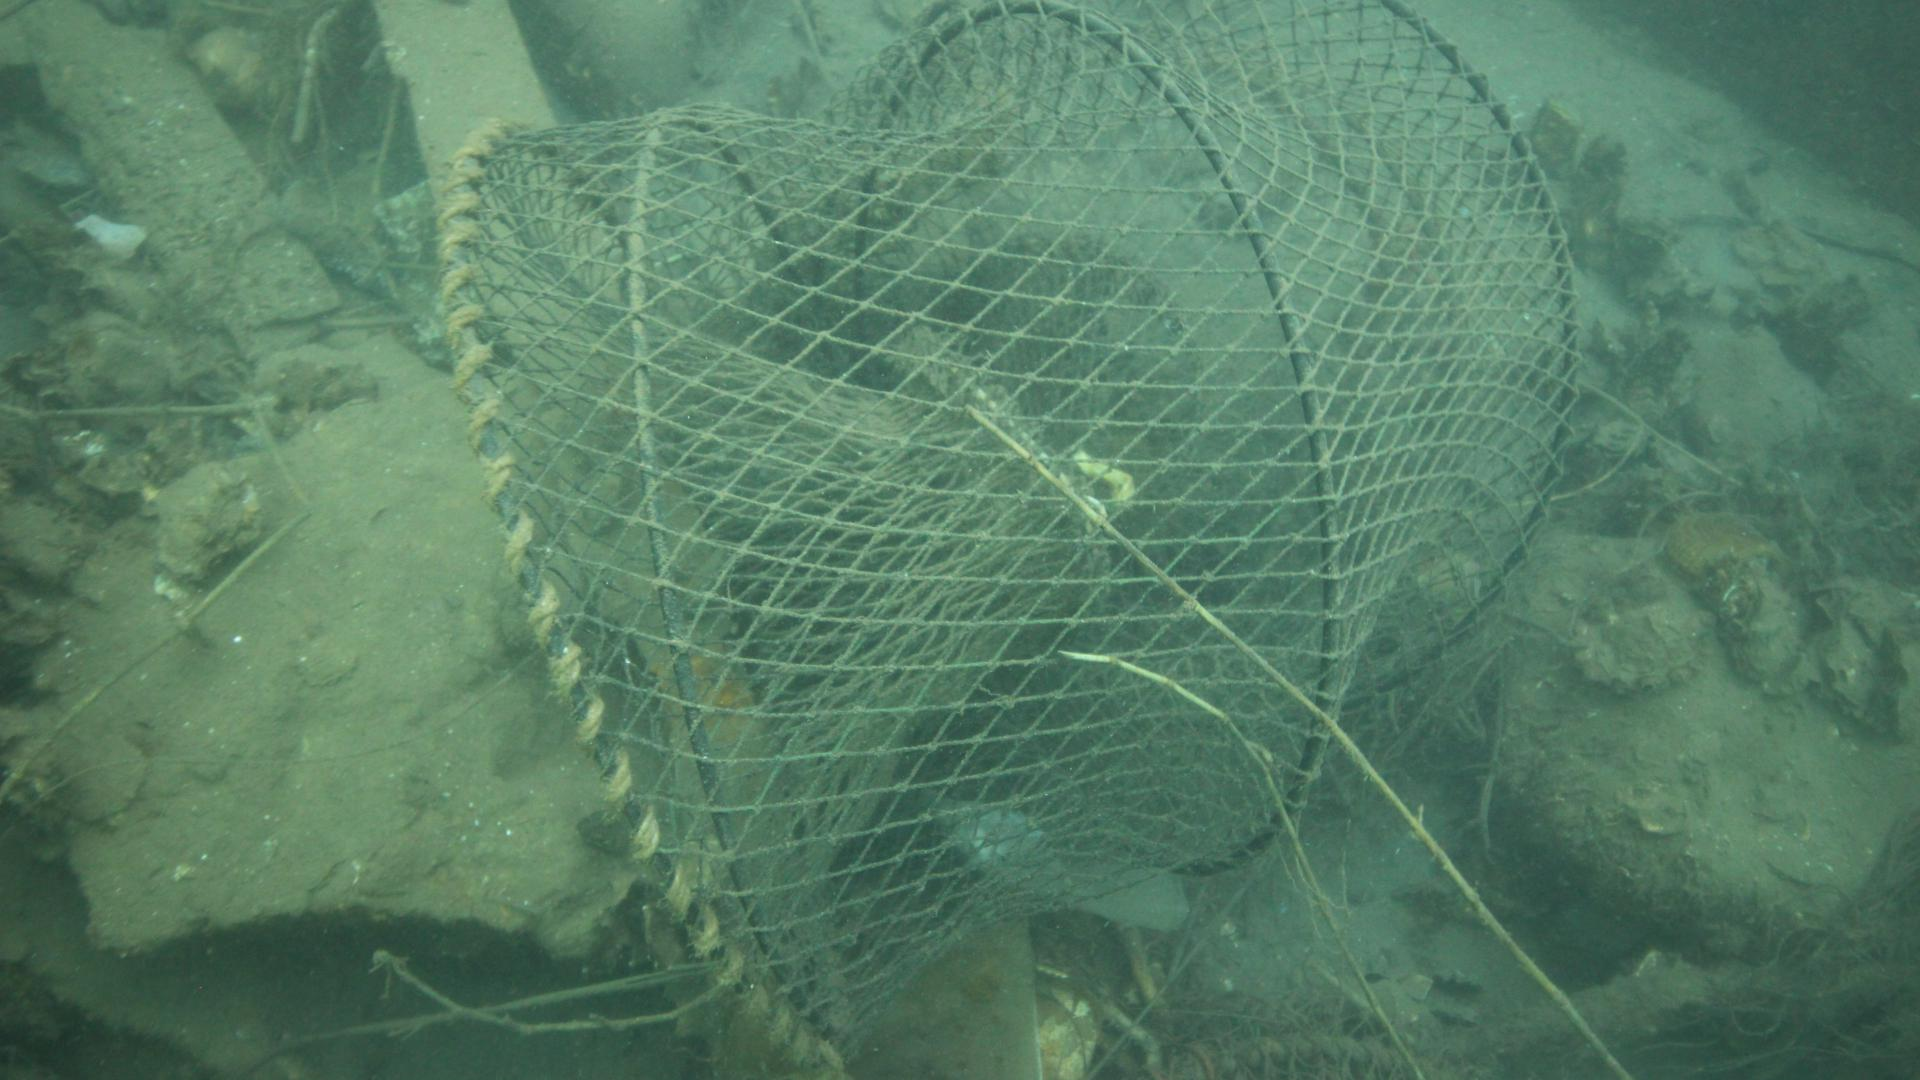spring fish trap: (434, 0, 1585, 1080)
